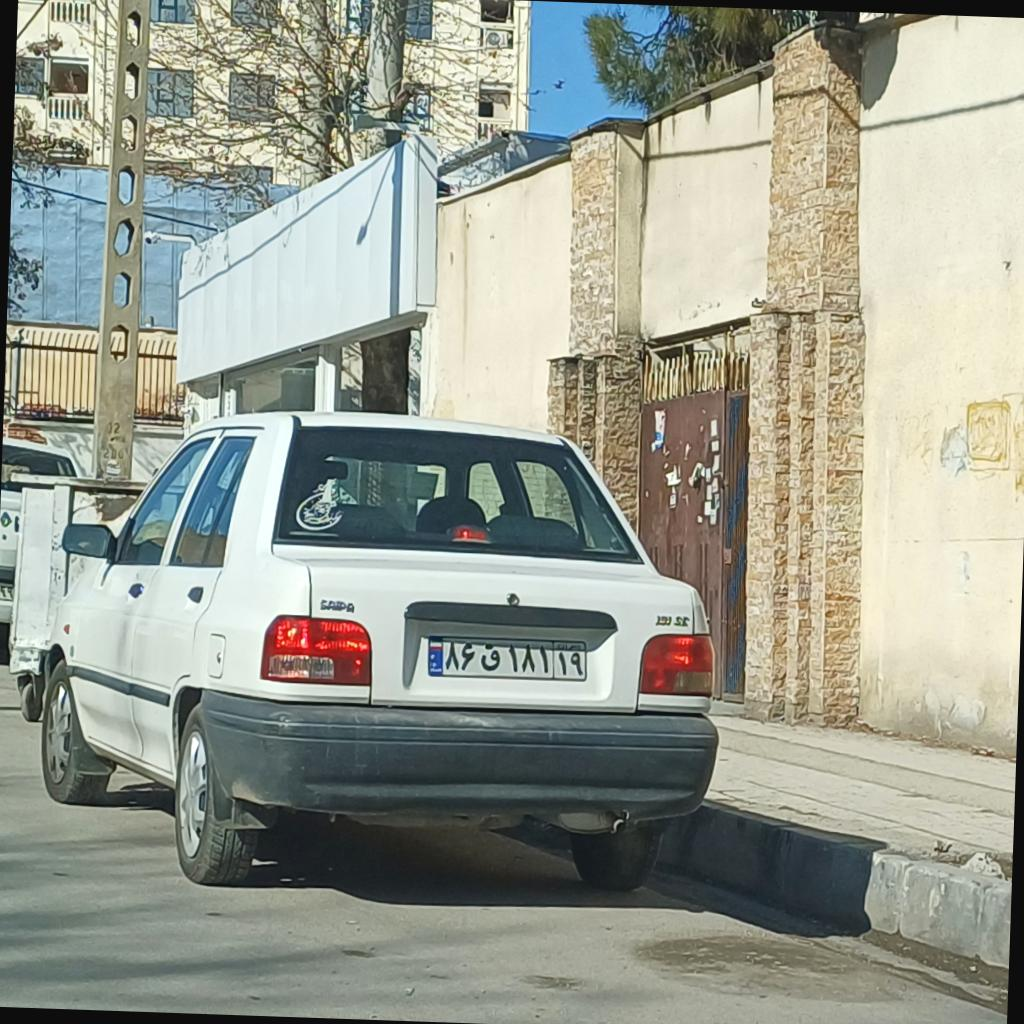Plates: (427, 634, 587, 682)
